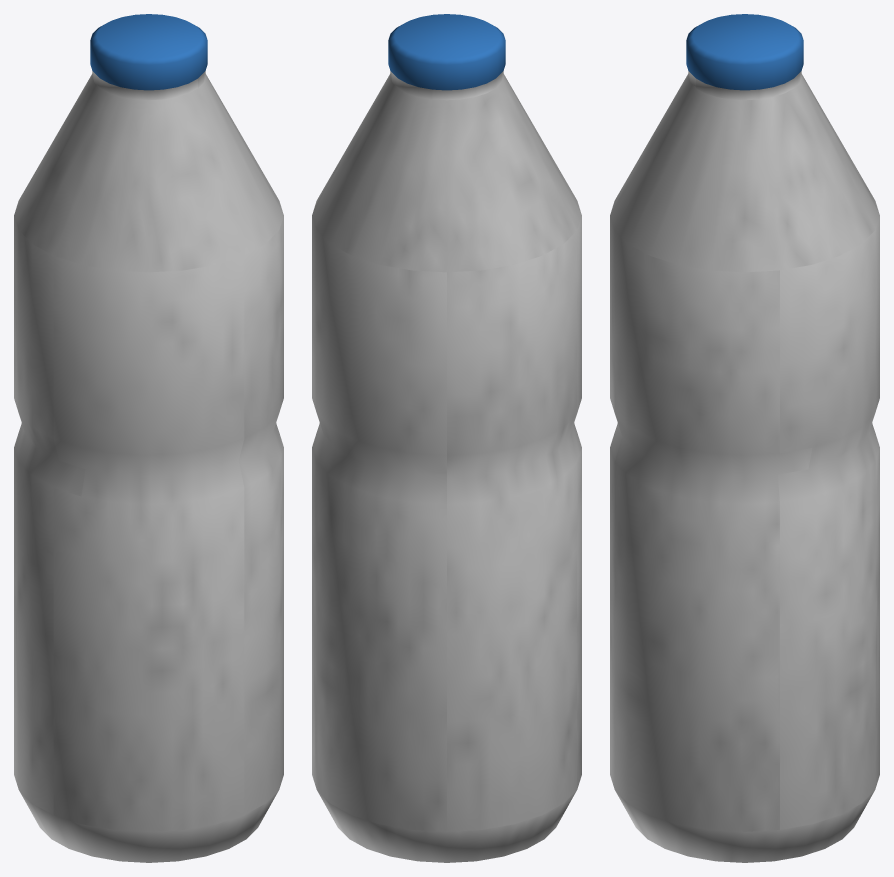
File: water_bottle1.fbx
3 renders of one model, left to right at view 1: azimuth 30°, elevation 25°; view 2: azimuth 150°, elevation 25°; view 3: azimuth 270°, elevation 25°, orthographic.
Parts seen in each view (by area): view 1: Cylinder; view 2: Cylinder; view 3: Cylinder.
Boxes of the visible parts, <box> form: Cylinder: <box>14,14,283,862</box>; Cylinder: <box>312,14,581,862</box>; Cylinder: <box>610,14,879,862</box>.
Size of the model in its own units: 200 by 637 by 200.
2 materials, 2 textured.
